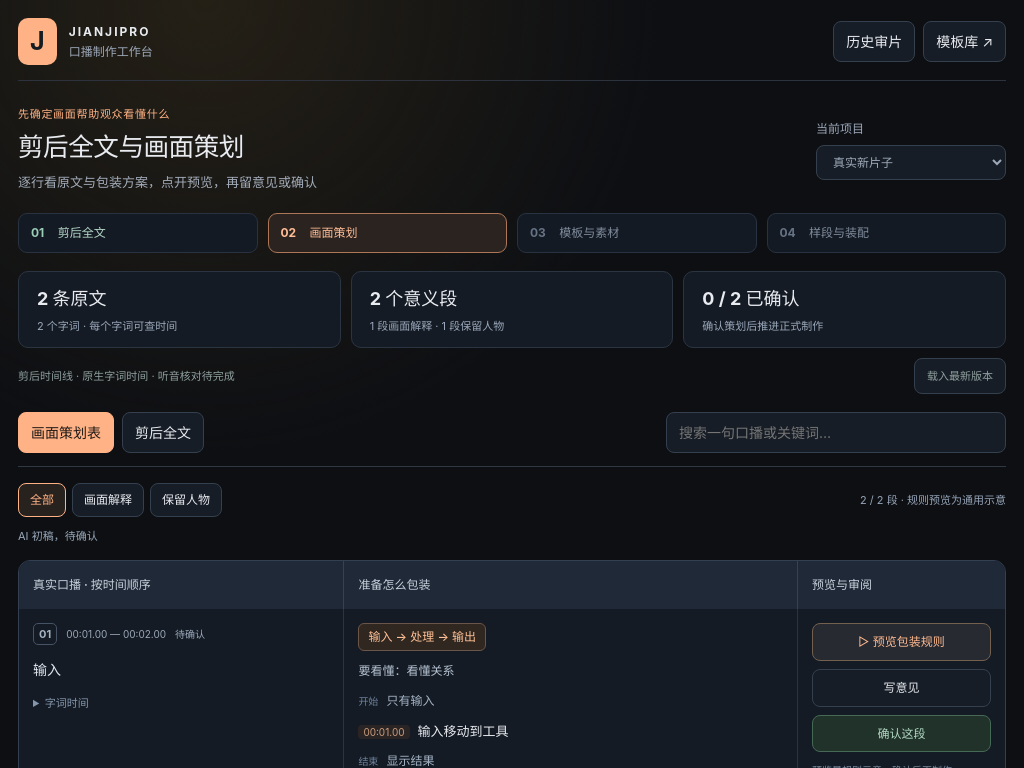
Scenario: 默认表格同时展示全部原文与动作，全文保留字词时间并能定位到对应行
Later steps or results of the test are not shown.
Expected: the text "输入移动到工具" is shown, 418,723 -> 508,739
Step 1. Click the tab "剪后全文" → click(163, 433), box 122,412 -> 204,453
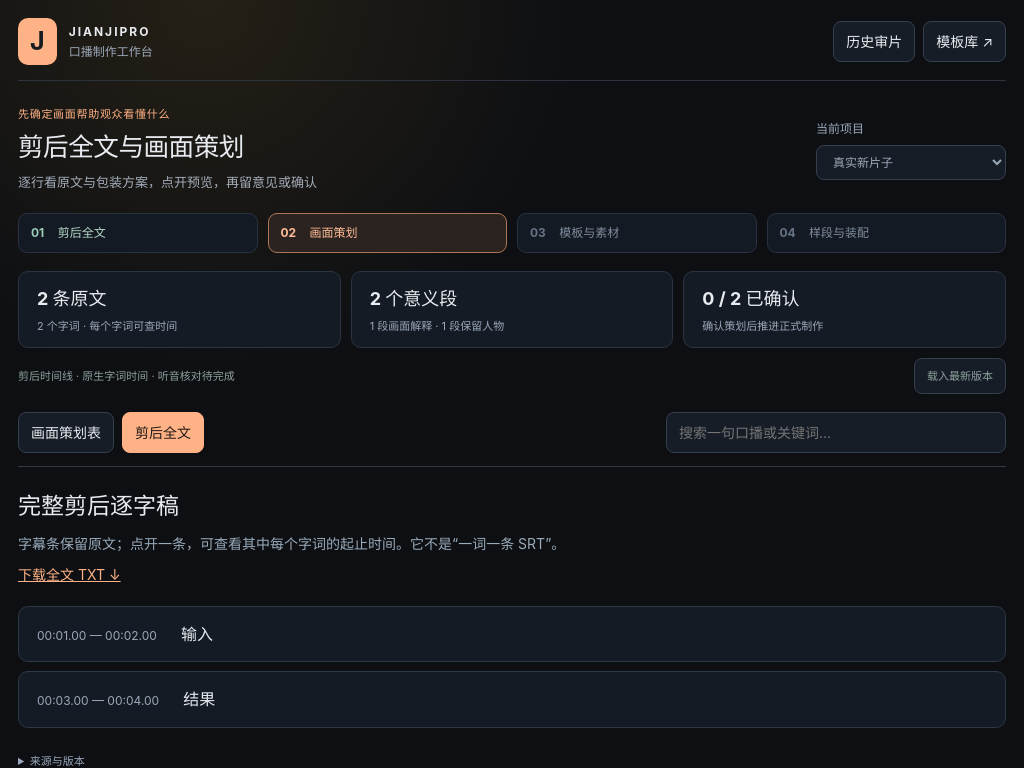
Step 2. Click the heading "00:01.00 — 00:02.00 输入" → click(125, 634), box 37,624 -> 213,644
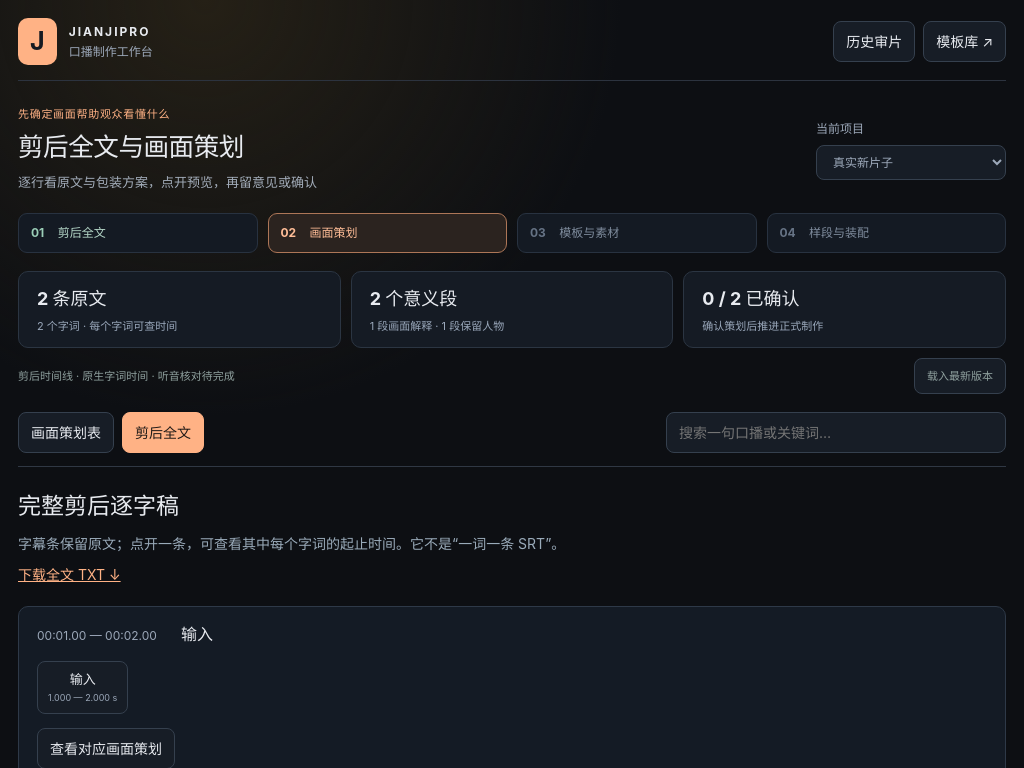
Expected: the text "1.000 — 2.000 s" is shown, 48,691 -> 117,706
